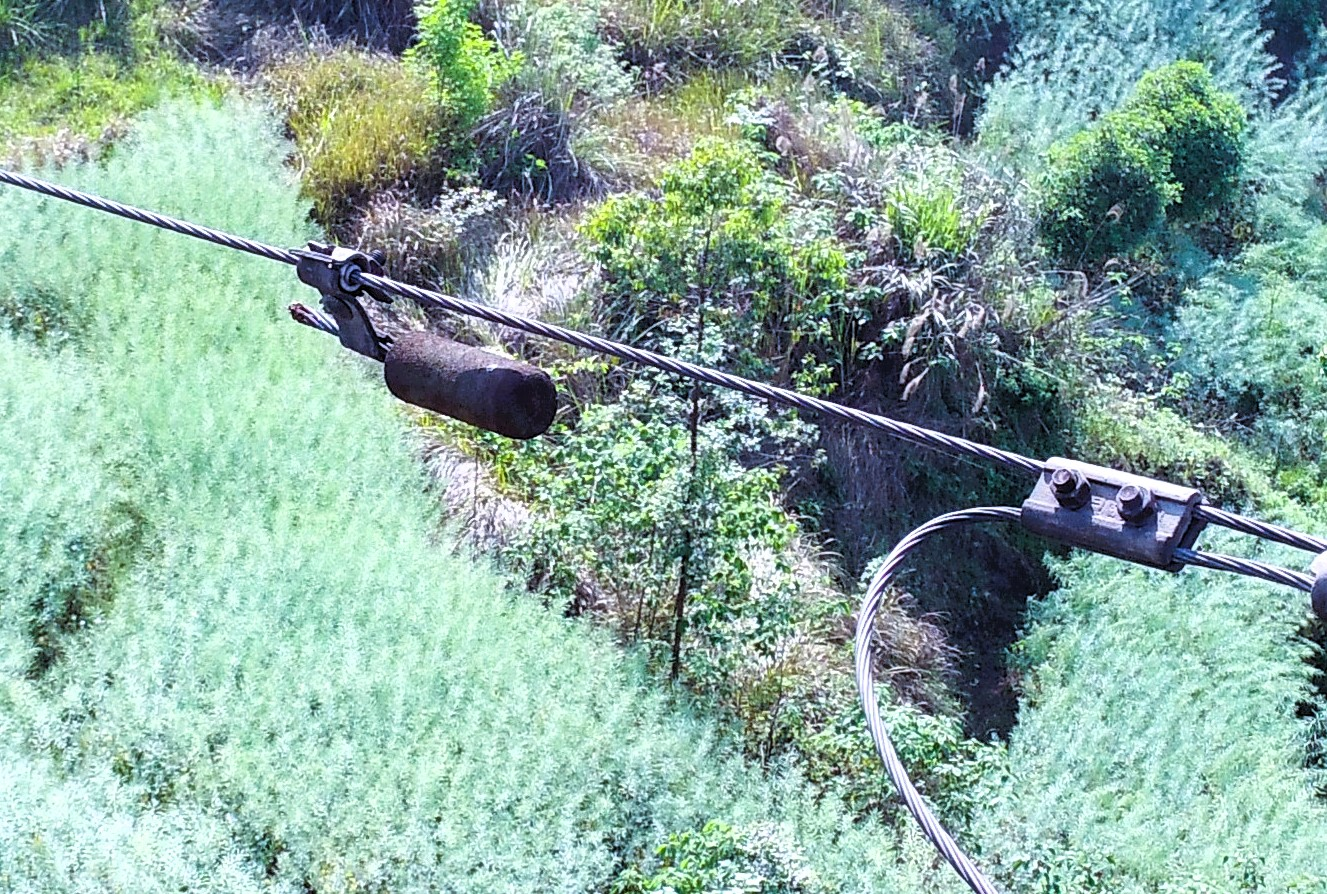Damage of shockproof hammer: (269, 226, 577, 456)
